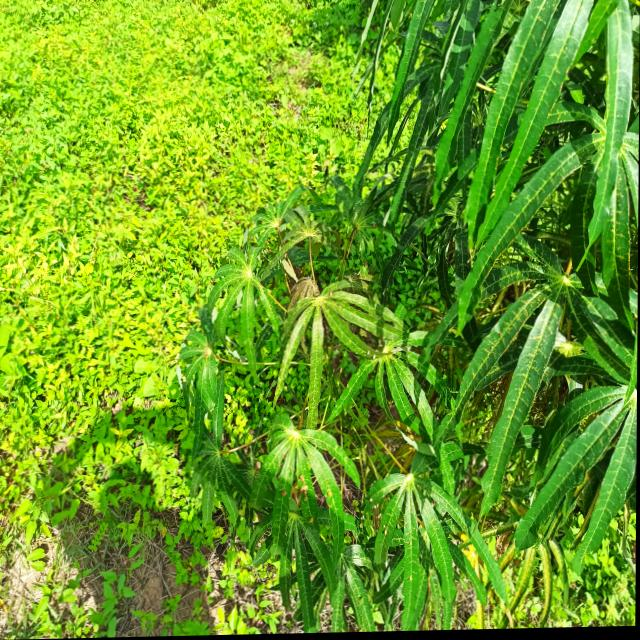Maleza: (0, 0, 171, 381), (0, 0, 347, 163), (4, 353, 177, 638)
Mosca: (247, 452, 266, 474), (297, 471, 309, 503), (366, 492, 381, 511), (381, 523, 393, 539), (325, 486, 335, 505), (278, 485, 288, 502), (406, 569, 415, 585)
